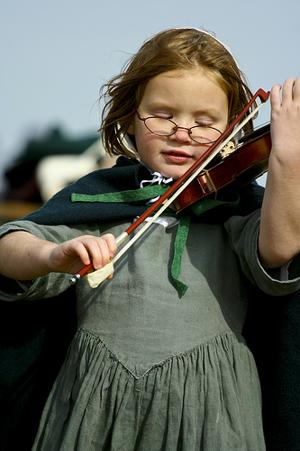person: (1, 29, 300, 450)
